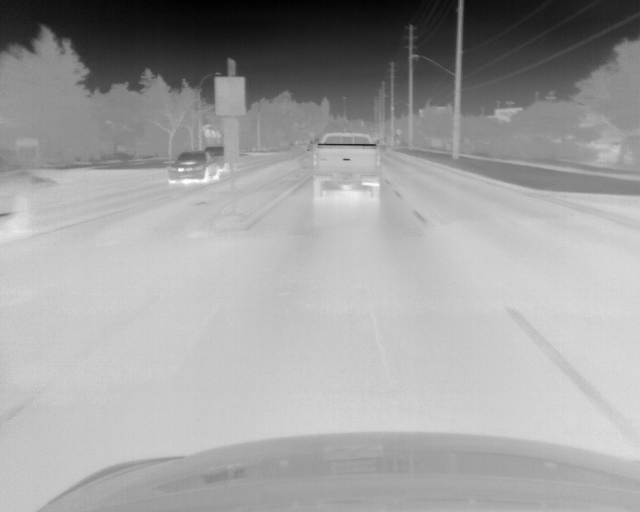car: (310, 130, 380, 201), (167, 151, 217, 186), (204, 144, 227, 171)
